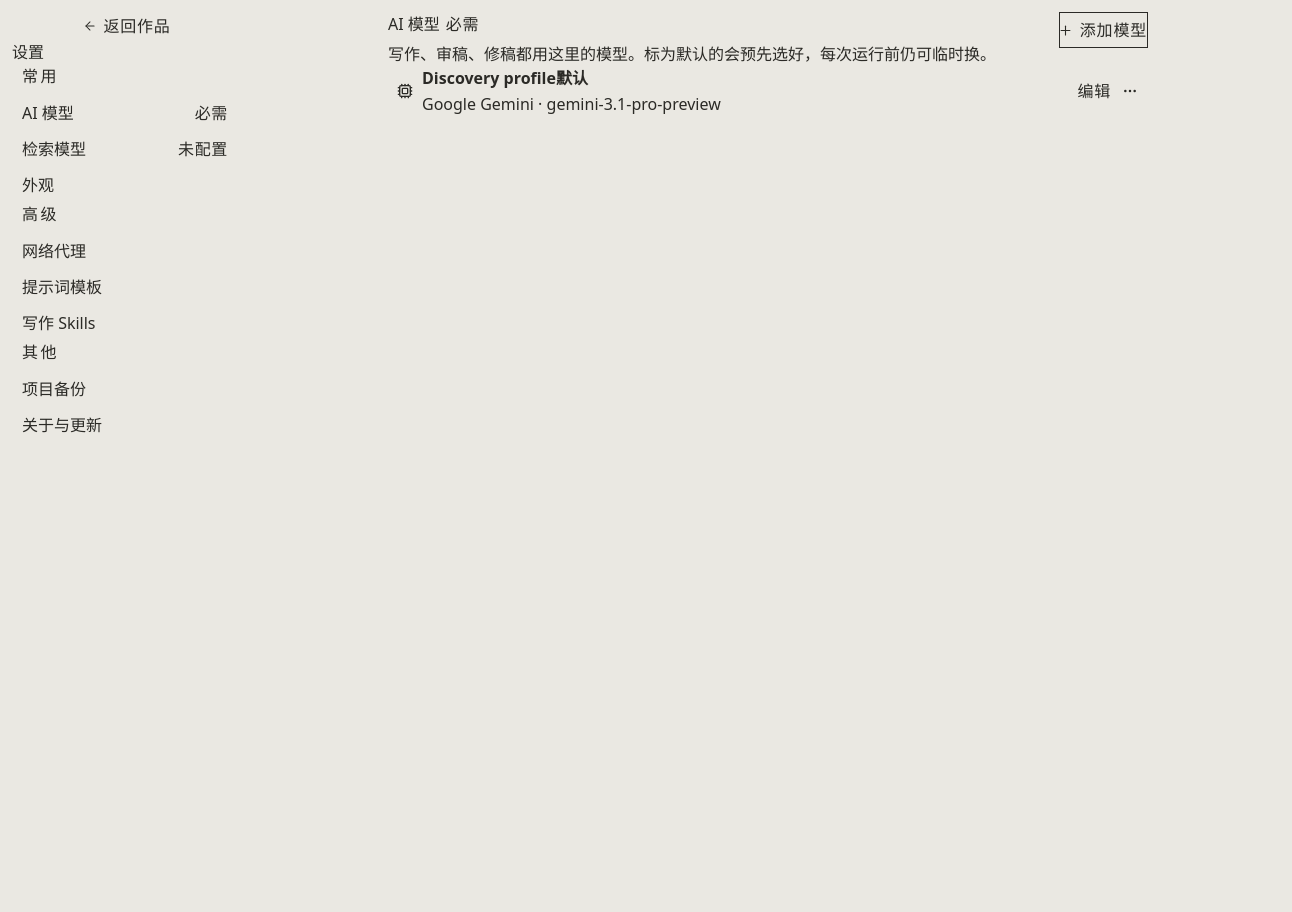
Test: model discovery settings flow › explains in zh-CN that turning thinking off on Gemini 3 sends its lowest level
Click the button with aria-label "编辑「": (1094,91) [1076,77,1112,105]
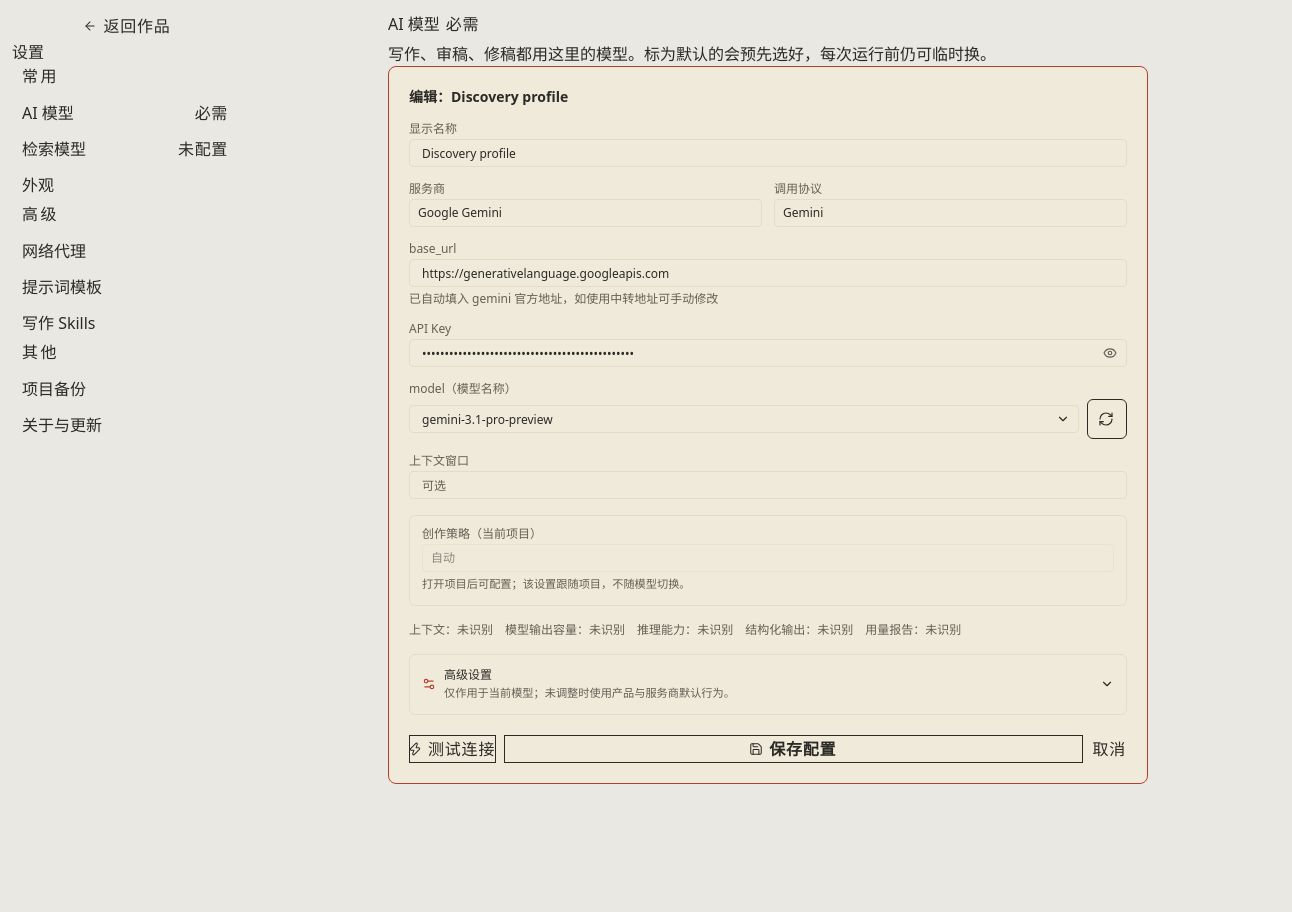
Click the button "高级设置 仅作用于当前模型；未调整时使用产品与服务商默认行为。": (468,674) [410,655,1126,714]
(page scrolled)
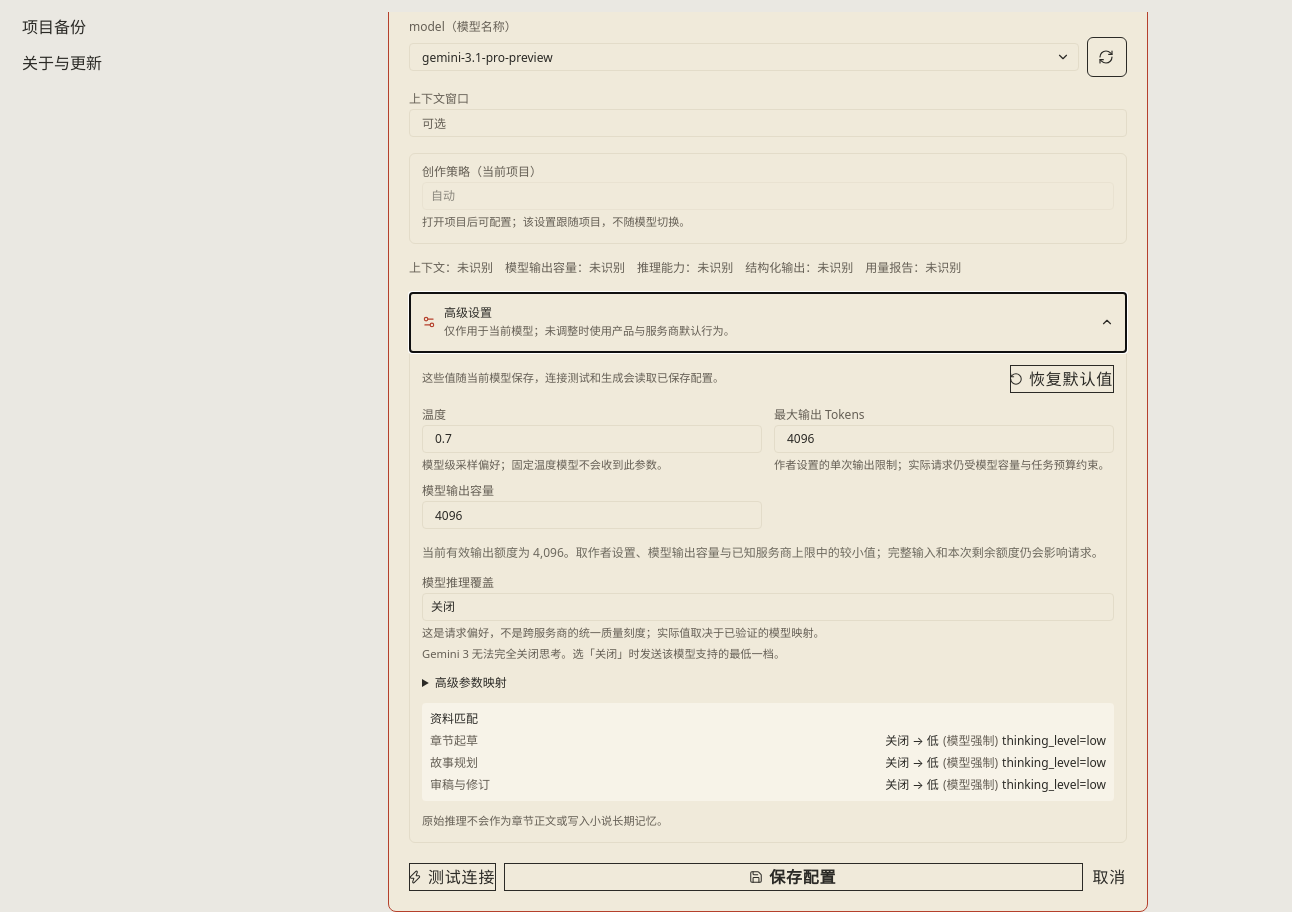
Now the element that starts with "模型推理覆盖" shows "关闭 → 低", box [422,577,1114,830]
Now the text "thinking_level=low" in the row of "章节起草" is shown, box [1002,732,1106,749]
Now the element that starts with "模型推理覆盖" shows "Gemini 3 无法完全关闭思考", box [422,646,785,661]
